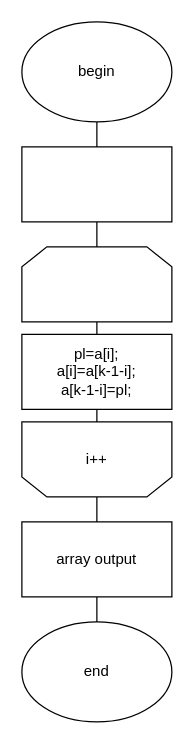
The diagram is 194 pixels wide and 744 high, and some of its shapes have lost their labels. Each missing label, with the centre of its shape:
array input: the point at 96,184
int i=0 i<k/2: the point at 96,284
